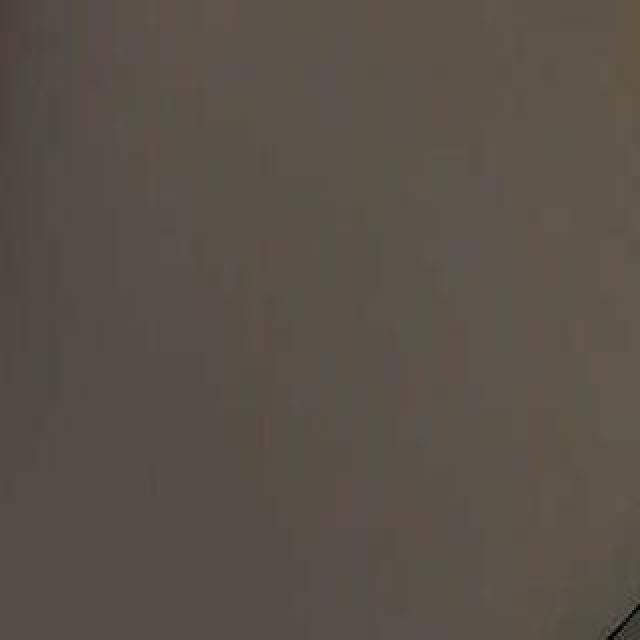fluorescent tube: (622, 90, 640, 640)
